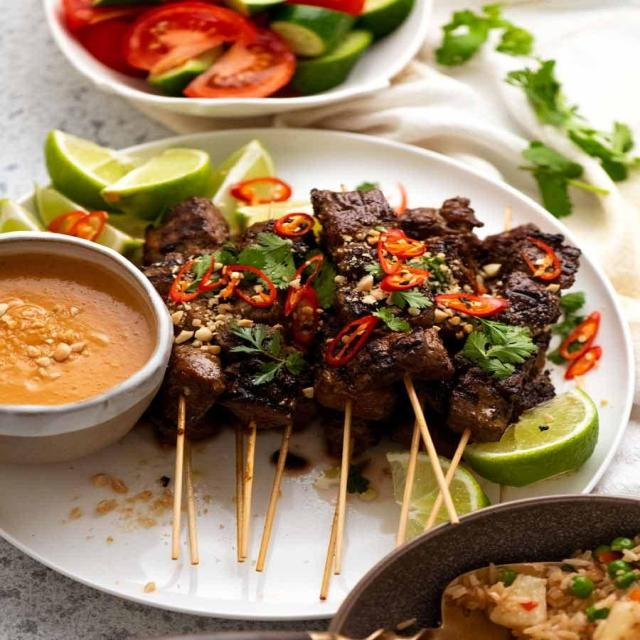Sate: (137, 164, 533, 548)
